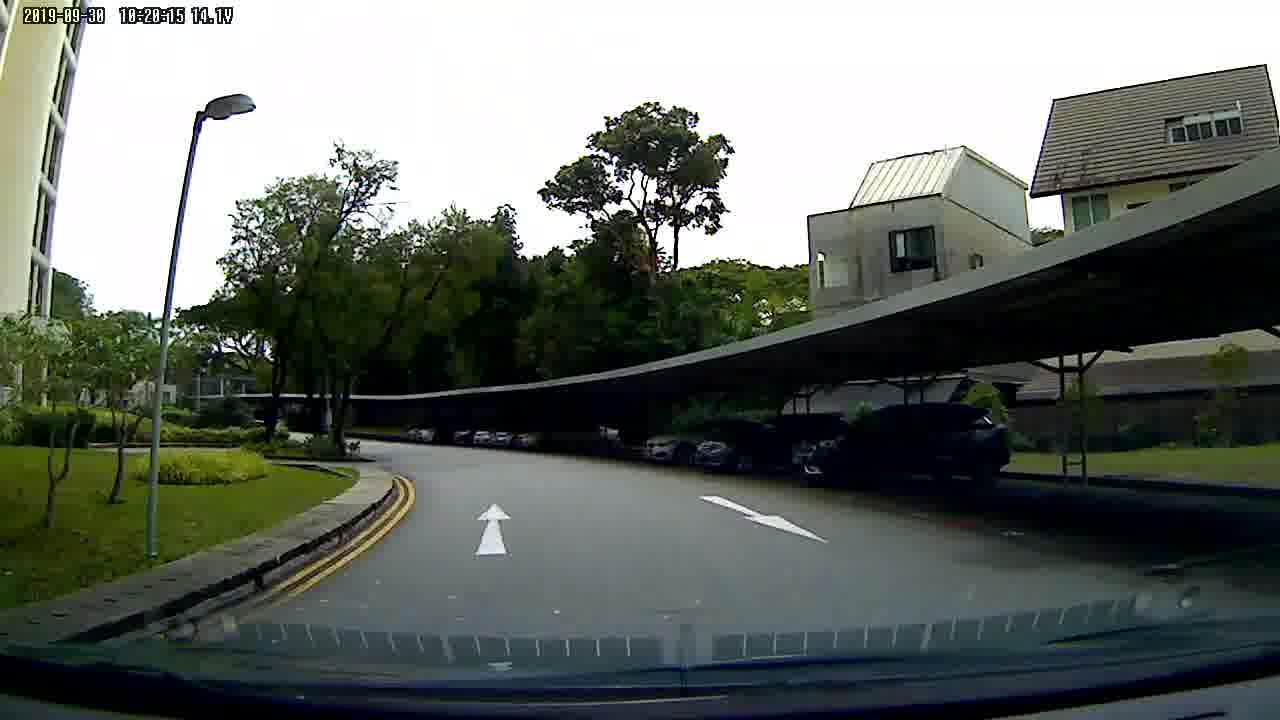car: (791, 400, 1021, 498)
